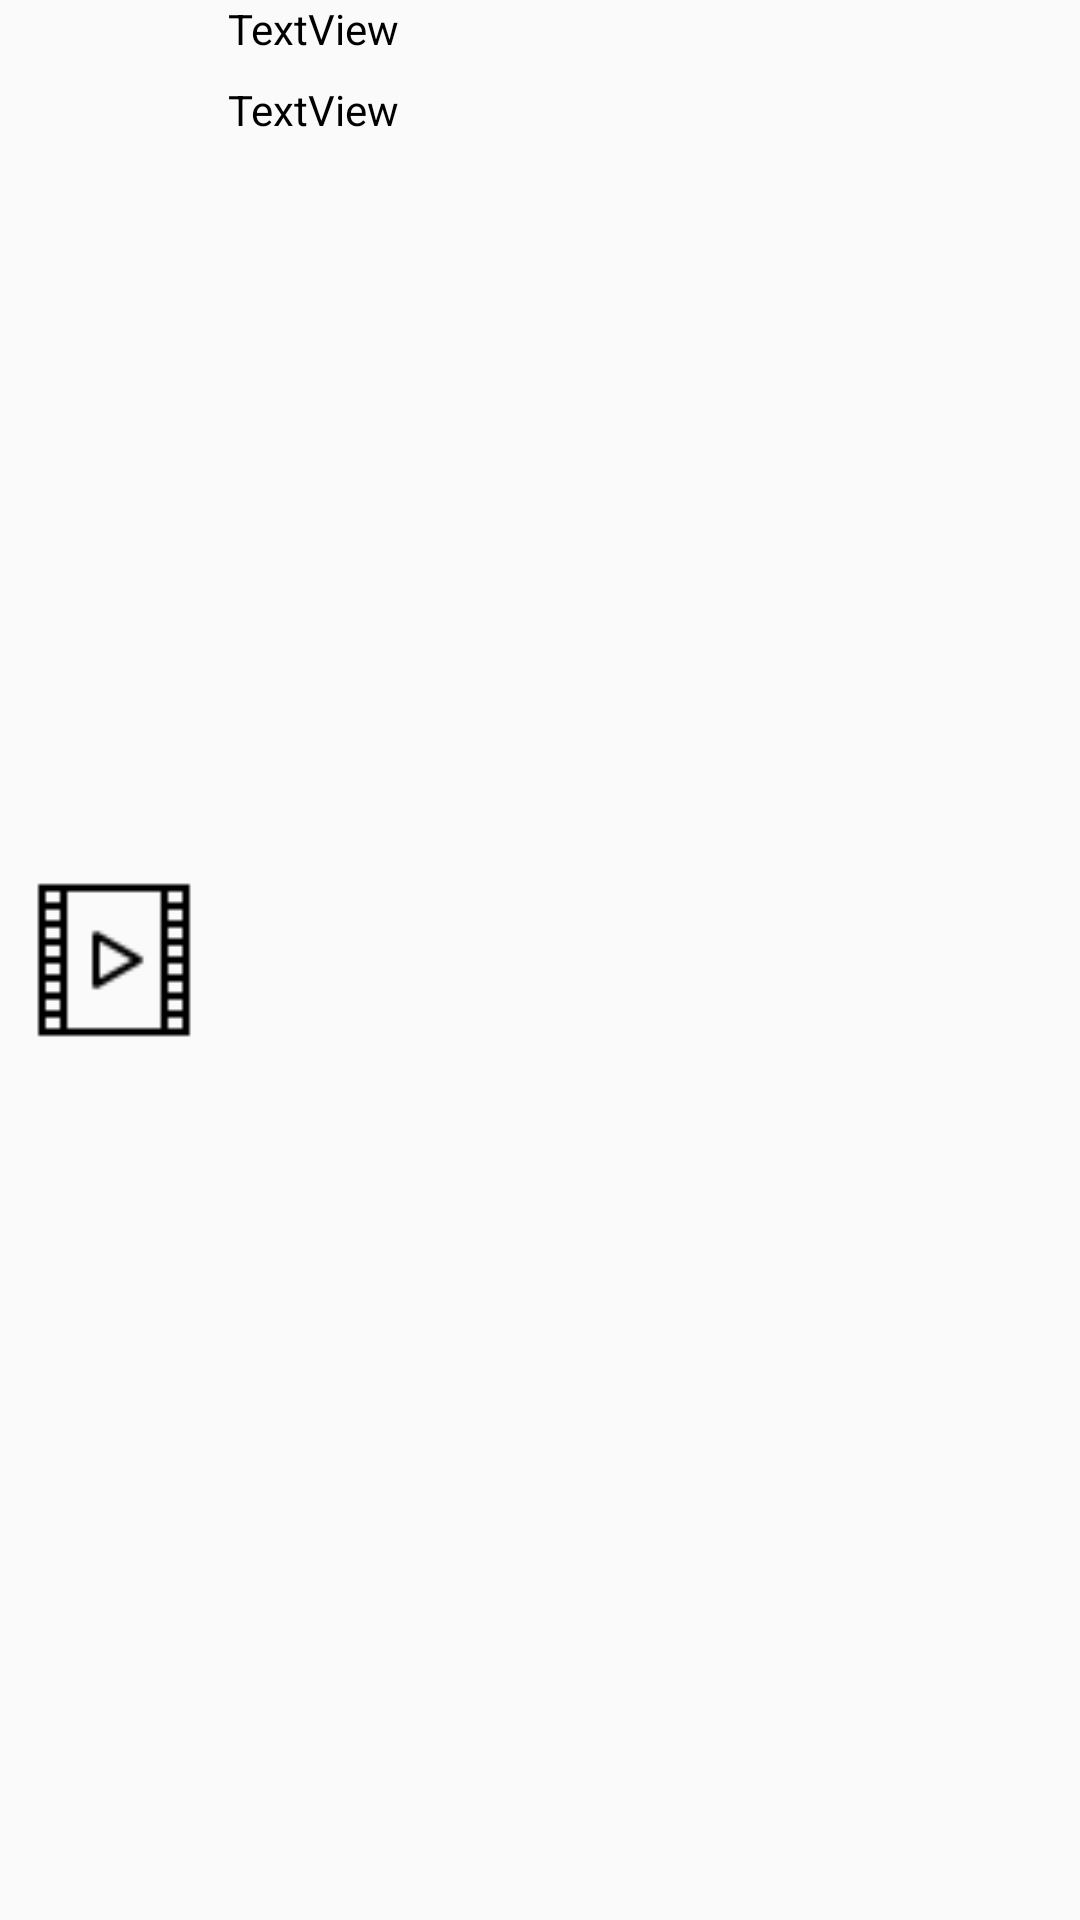

Named icons in this screenshot (1080px×1920px) and their bounding boxes, Rect(x1, y1, x2, y2):
films: Rect(37, 883, 191, 1037)
